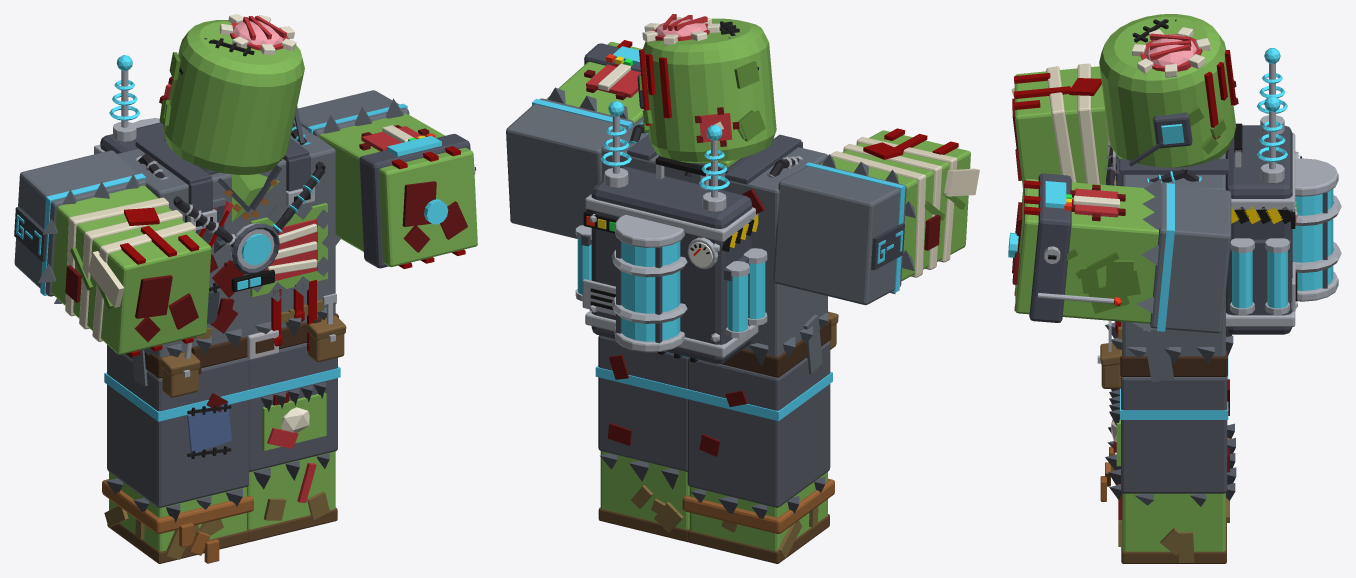
The model's file is zombi_generador.glb.
The picture shows the model from 3 angles, left to right: view 1: azimuth 30°, elevation 25°; view 2: azimuth 150°, elevation 25°; view 3: azimuth 270°, elevation 25°; orthographic projection.
Parts seen in each view (by area): view 1: Head__7DB754, RightLeg__585C68, RightArm__7DB754, Torso__676E78, LeftArm__7DB754, LeftLeg__585C68, RightArm__676E78, LeftLeg__7DB754, RightArm__E6DEC6, Torso__4E525F, RightLeg__976033, LeftArm__4E525F (+33 smaller); view 2: RightLeg__585C68, RightArm__676E78, Torso__4E525F, Head__7DB754, LeftArm__676E78, LeftLeg__585C68, Torso__676E78, Torso__ADB1BB, RightArm__7DB754, RightArm__E6DEC6, Torso__53E1FF_N, Nucleo__ADB1BB (+25 smaller); view 3: LeftLeg__585C68, Head__7DB754, LeftArm__676E78, LeftArm__7DB754, Torso__4E525F, RightArm__7DB754, LeftLeg__7DB754, Torso__676E78, Torso__ADB1BB, LeftArm__4E525F, Torso__53E1FF_N, RightArm__E6DEC6 (+27 smaller).
Boxes of the visible parts, box(x1,y1,x2,y2) form: Head__7DB754: box(163, 20, 304, 174); RightLeg__585C68: box(106, 345, 248, 522); RightArm__7DB754: box(52, 185, 211, 354); Torso__676E78: box(117, 120, 340, 386); LeftArm__7DB754: box(319, 113, 477, 267); LeftLeg__585C68: box(248, 342, 337, 489); RightArm__676E78: box(14, 150, 146, 303); LeftLeg__7DB754: box(247, 392, 335, 529); RightArm__E6DEC6: box(65, 197, 195, 341); Torso__4E525F: box(100, 122, 310, 274); RightLeg__976033: box(102, 479, 253, 563); LeftArm__4E525F: box(359, 134, 470, 268); RightLeg__585C68: box(687, 341, 830, 518); RightArm__676E78: box(773, 154, 915, 305); Torso__4E525F: box(581, 134, 802, 363); Head__7DB754: box(643, 18, 776, 163); LeftArm__676E78: box(506, 87, 633, 238); LeftLeg__585C68: box(598, 335, 688, 489); Torso__676E78: box(601, 117, 828, 374); Torso__ADB1BB: box(575, 116, 802, 357); RightArm__7DB754: box(820, 130, 970, 281); RightArm__E6DEC6: box(830, 137, 979, 277); Torso__53E1FF_N: box(577, 101, 765, 360); Nucleo__ADB1BB: box(611, 214, 687, 352); LeftLeg__585C68: box(1105, 376, 1236, 506); Head__7DB754: box(1099, 14, 1236, 167); LeftArm__676E78: box(1132, 178, 1231, 333); LeftArm__7DB754: box(1015, 178, 1158, 323); Torso__4E525F: box(1116, 125, 1292, 334); RightArm__7DB754: box(1014, 66, 1108, 188); LeftLeg__7DB754: box(1116, 420, 1225, 551); Torso__676E78: box(1105, 152, 1233, 381); Torso__ADB1BB: box(1097, 63, 1298, 363); LeftArm__4E525F: box(1029, 173, 1071, 322); Torso__53E1FF_N: box(1146, 48, 1287, 308); RightArm__E6DEC6: box(1011, 63, 1115, 185).
Size of the model in its own units: 4.31 by 5.32 by 3.22.
